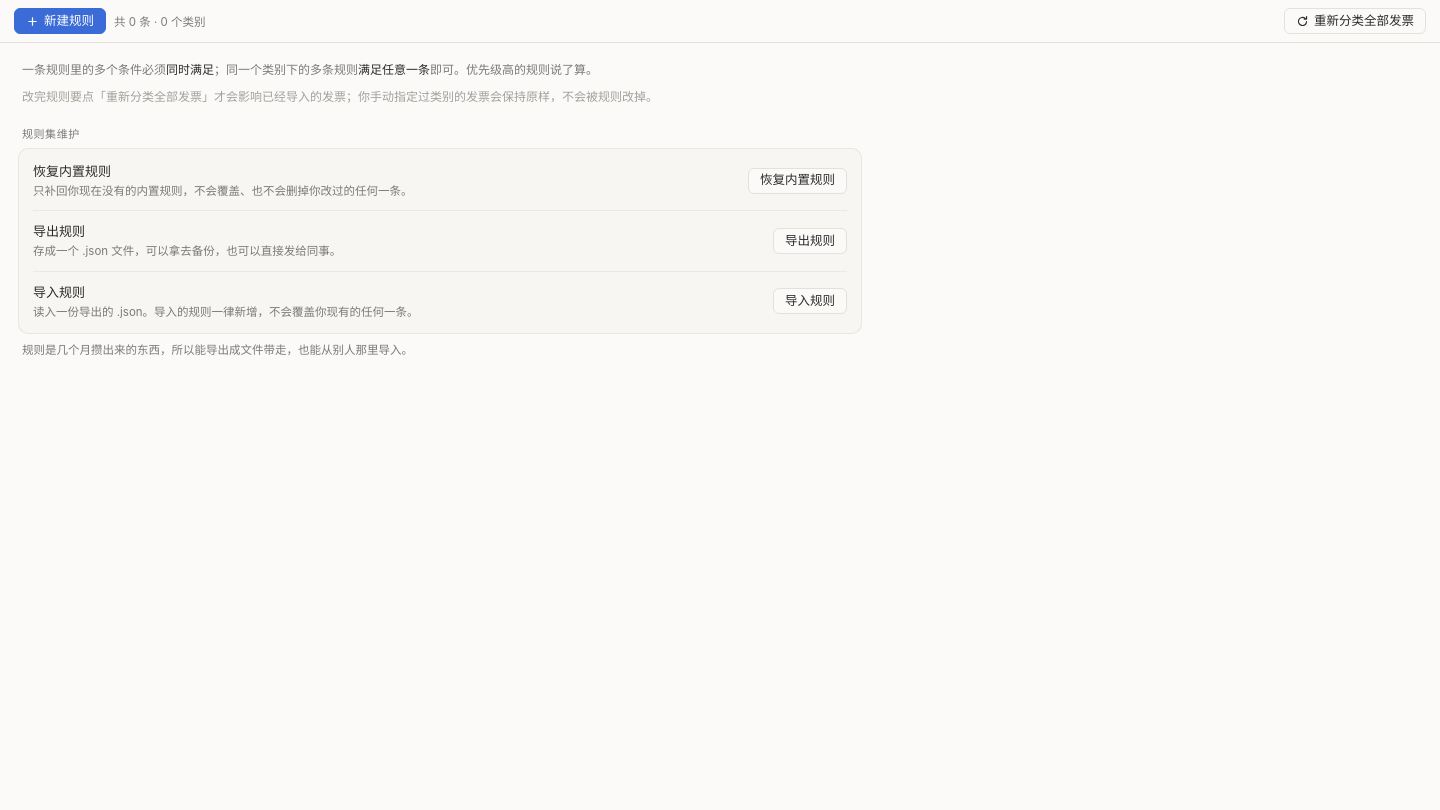
it: RulesPane › says how many built-ins came back, since nothing else shows it
Step 1. Click the button "恢复内置规则" → (798, 181), box [748,168,847,194]
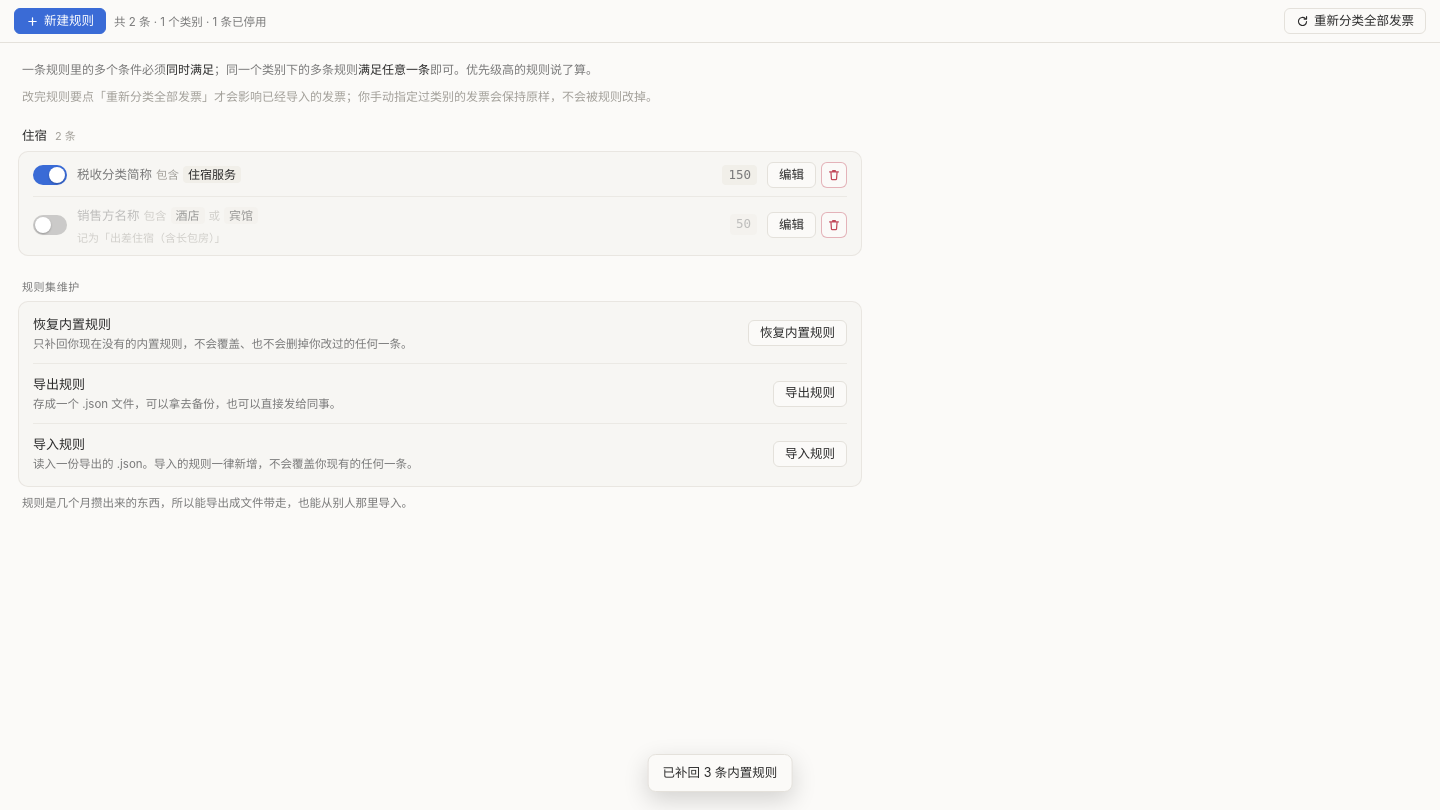
Now the text "已补回 3 条内置规则" is shown, box [648,754,792,792]
